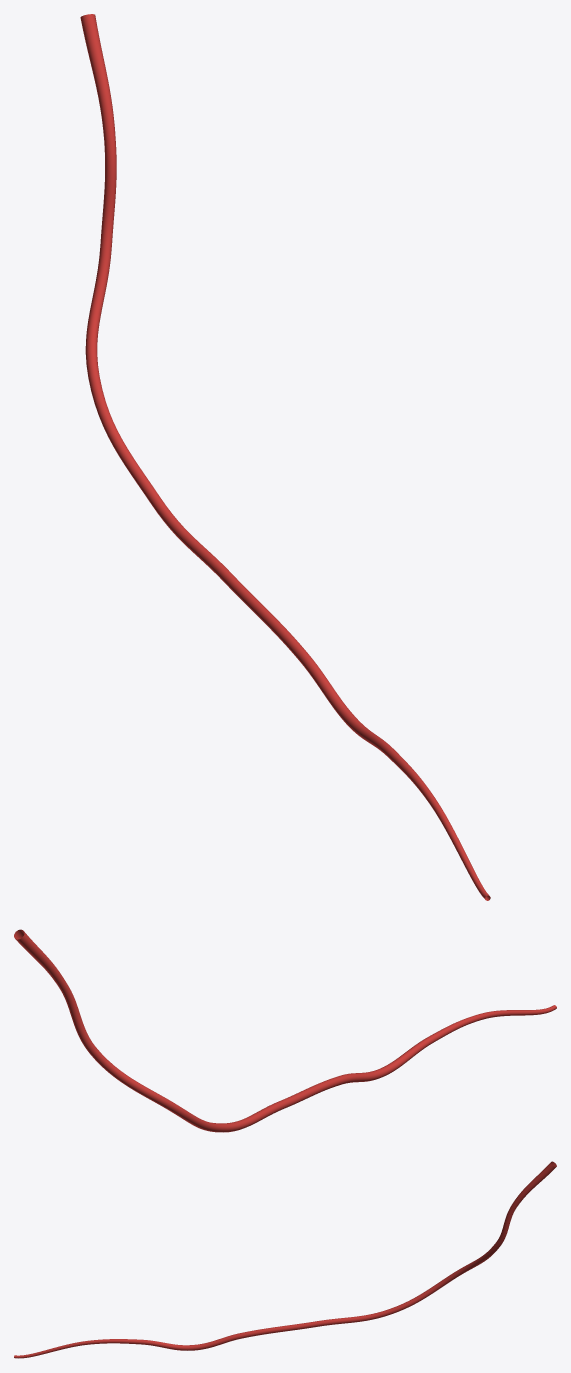
The picture shows the model from 3 angles, top to bottom: view 1: azimuth 30°, elevation 25°; view 2: azimuth 150°, elevation 25°; view 3: azimuth 270°, elevation 25°; orthographic projection. The views are drawn at different scales.
Parts seen in each view (by area): view 1: 左侧腹壁下动脉; view 2: 左侧腹壁下动脉; view 3: 左侧腹壁下动脉.
Part boxes in pixels (bbox=[...]): 左侧腹壁下动脉: bbox=[80, 14, 490, 900]; 左侧腹壁下动脉: bbox=[14, 929, 556, 1132]; 左侧腹壁下动脉: bbox=[14, 1161, 556, 1358].
Bounding box in the file's own units: 0.0436 × 0.129 × 0.2762.
